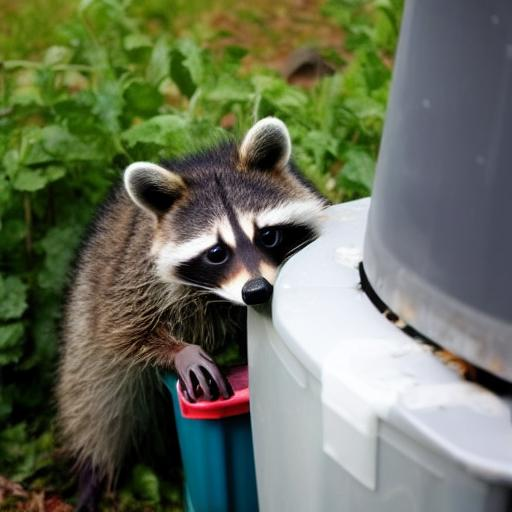raccoon: (49, 107, 330, 463)
